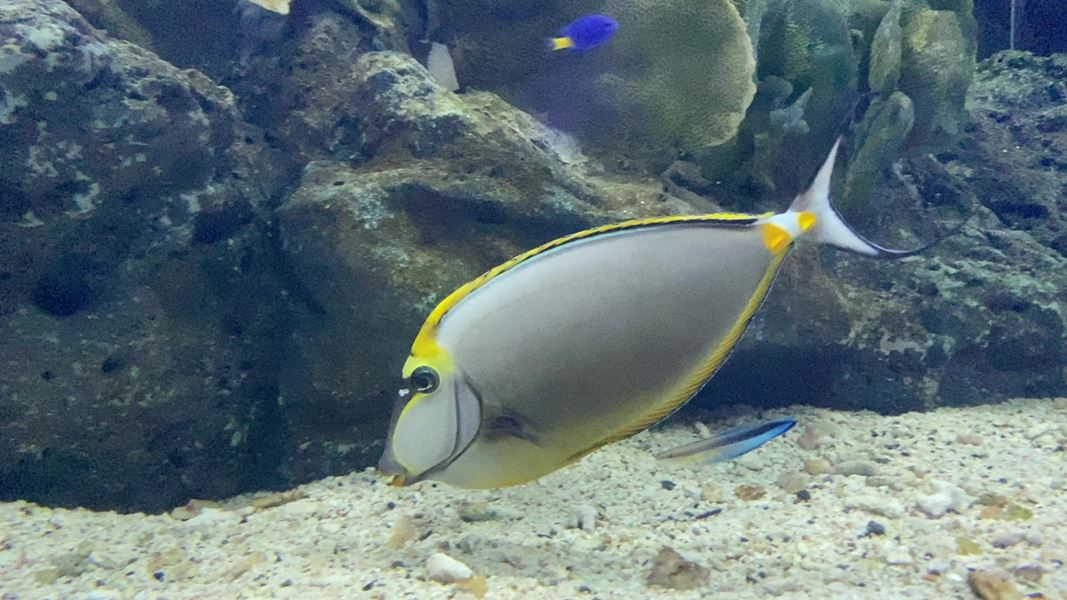Bluesteak cleaner wrasse: (646, 410, 807, 477)
